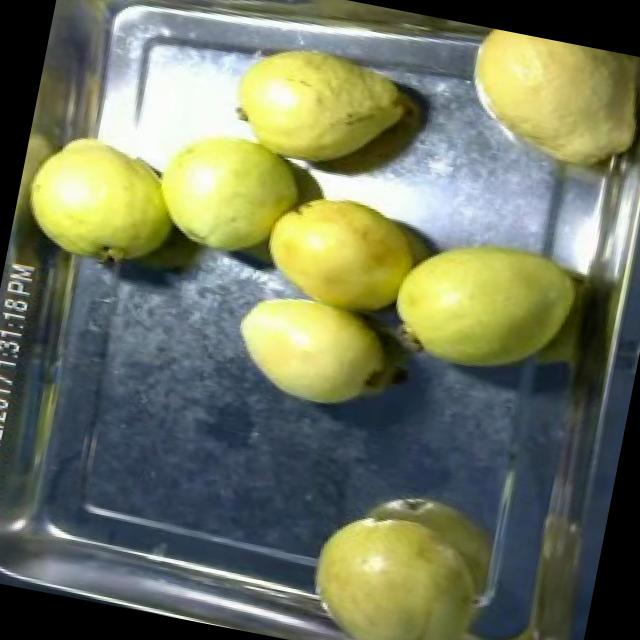Fruit: (203, 11, 443, 196), (373, 212, 594, 394), (288, 477, 510, 640), (438, 22, 640, 193), (135, 102, 328, 279), (8, 110, 206, 282), (247, 172, 438, 322), (218, 286, 402, 424)
